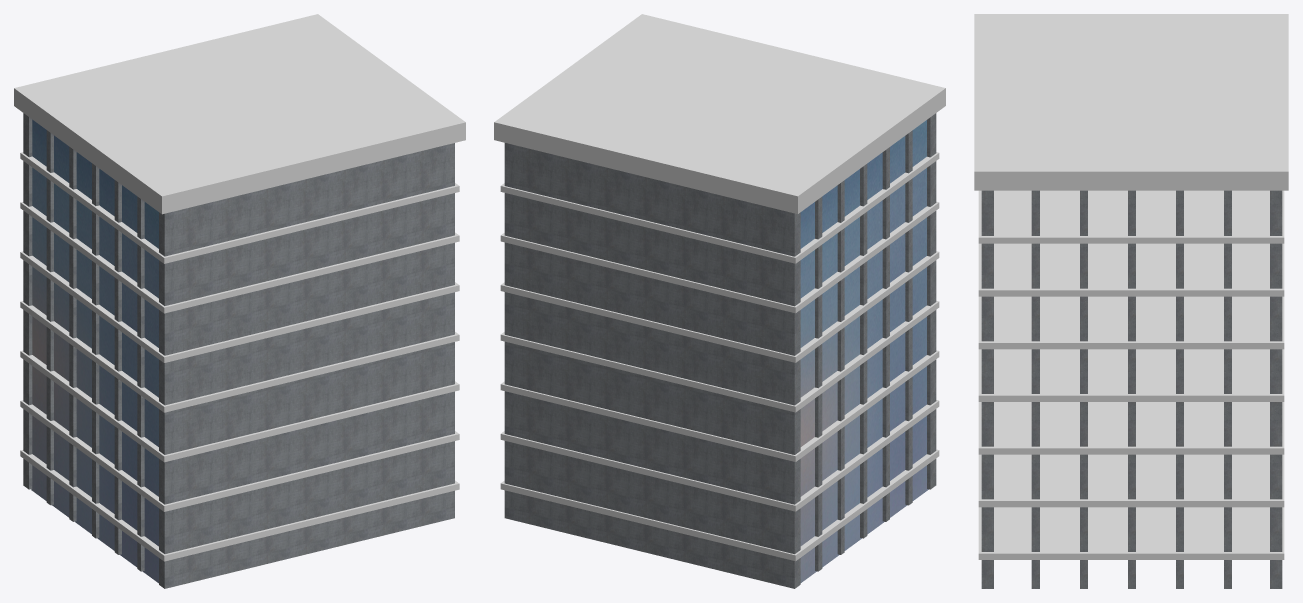
File: building.FBX
The picture shows the model from 3 angles, left to right: view 1: azimuth 30°, elevation 25°; view 2: azimuth 150°, elevation 25°; view 3: azimuth 270°, elevation 25°; orthographic projection. The views are drawn at different scales.
Visible parts, largest first — view 1: Box052, Box053, Plane005, Box054, Box055, Box059, Box060, Box057, Box056, Box058, Box046, Box047 (+4 smaller); view 2: Box046, Box053, Plane005, Box058, Box060, Box054, Box059, Box056, Box055, Box057, Box052, Box047 (+4 smaller); view 3: Box053, Box055, Box056, Box059, Box054, Box058, Box057, Box060, Box046, Box052, Box051, Box050 (+3 smaller).
Boxes of the visible parts, box(x1,y1,x2,y2) form: Box052: box(159, 143, 454, 588); Box053: box(14, 14, 465, 214); Plane005: box(31, 119, 158, 583); Box054: box(20, 152, 459, 263); Box055: box(20, 202, 459, 313); Box059: box(20, 400, 459, 511); Box060: box(20, 450, 459, 561); Box057: box(20, 301, 459, 412); Box056: box(20, 251, 459, 362); Box058: box(20, 350, 459, 462); Box046: box(23, 113, 32, 489); Box047: box(46, 130, 53, 505); Box046: box(504, 143, 800, 588); Box053: box(494, 14, 945, 214); Plane005: box(800, 120, 928, 582); Box058: box(500, 350, 939, 461); Box060: box(500, 449, 939, 561); Box054: box(500, 152, 939, 263); Box059: box(500, 400, 939, 511); Box056: box(500, 251, 939, 362); Box055: box(500, 201, 939, 313); Box057: box(500, 301, 939, 412); Box052: box(927, 113, 936, 489); Box047: box(815, 197, 822, 571); Box053: box(974, 14, 1288, 190); Box055: box(978, 243, 1284, 296); Box056: box(978, 296, 1284, 349); Box059: box(978, 454, 1284, 507); Box054: box(978, 190, 1284, 243); Box058: box(978, 402, 1284, 454); Box057: box(978, 349, 1284, 401); Box060: box(978, 507, 1284, 559); Box046: box(1270, 190, 1282, 588); Box052: box(981, 190, 993, 588); Box051: box(1031, 190, 1039, 588); Box050: box(1080, 190, 1087, 588).
Bounding box in the file's own units: 121 × 152 × 102.
2 materials, 2 textured.
